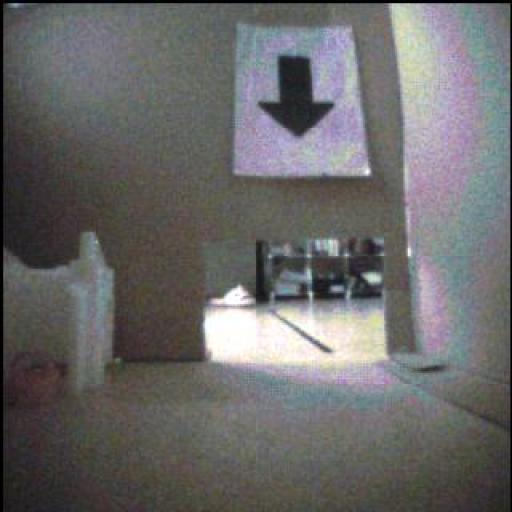arrow: (261, 57, 336, 137)
